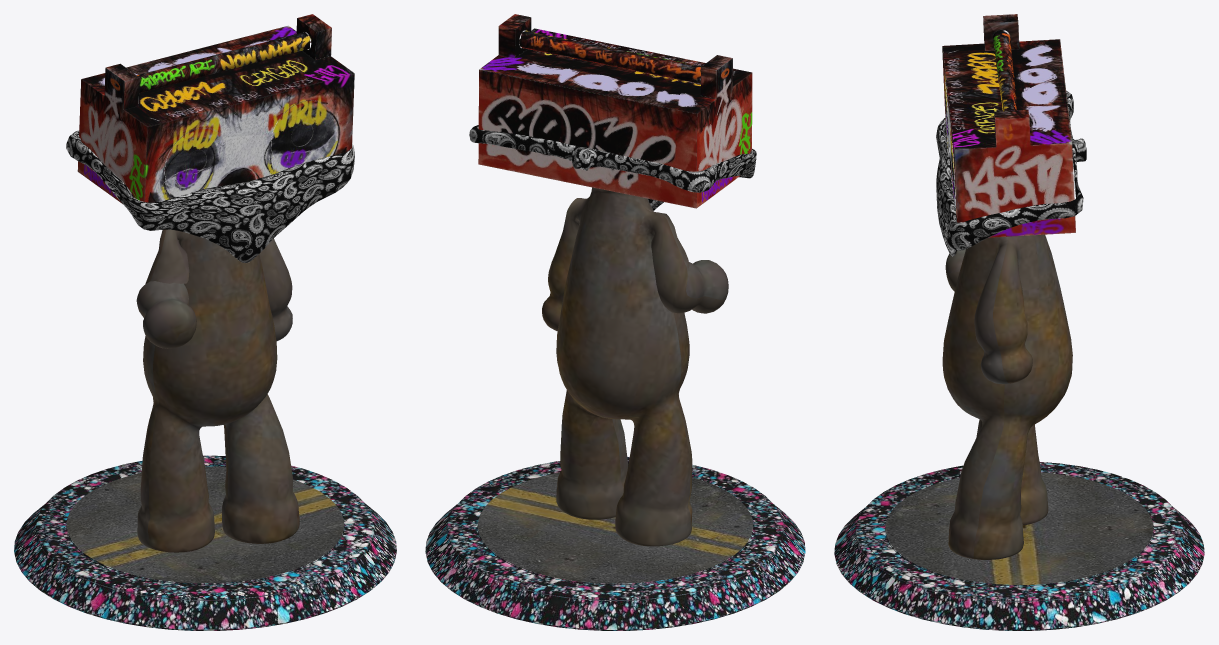
3 renders of one model, left to right at view 1: azimuth 30°, elevation 25°; view 2: azimuth 150°, elevation 25°; view 3: azimuth 270°, elevation 25°, orthographic. The views are drawn at different scales.
Size of the model in its own units: 1.45 by 2.12 by 1.45.
Materials: 5 (5 with a texture image).
